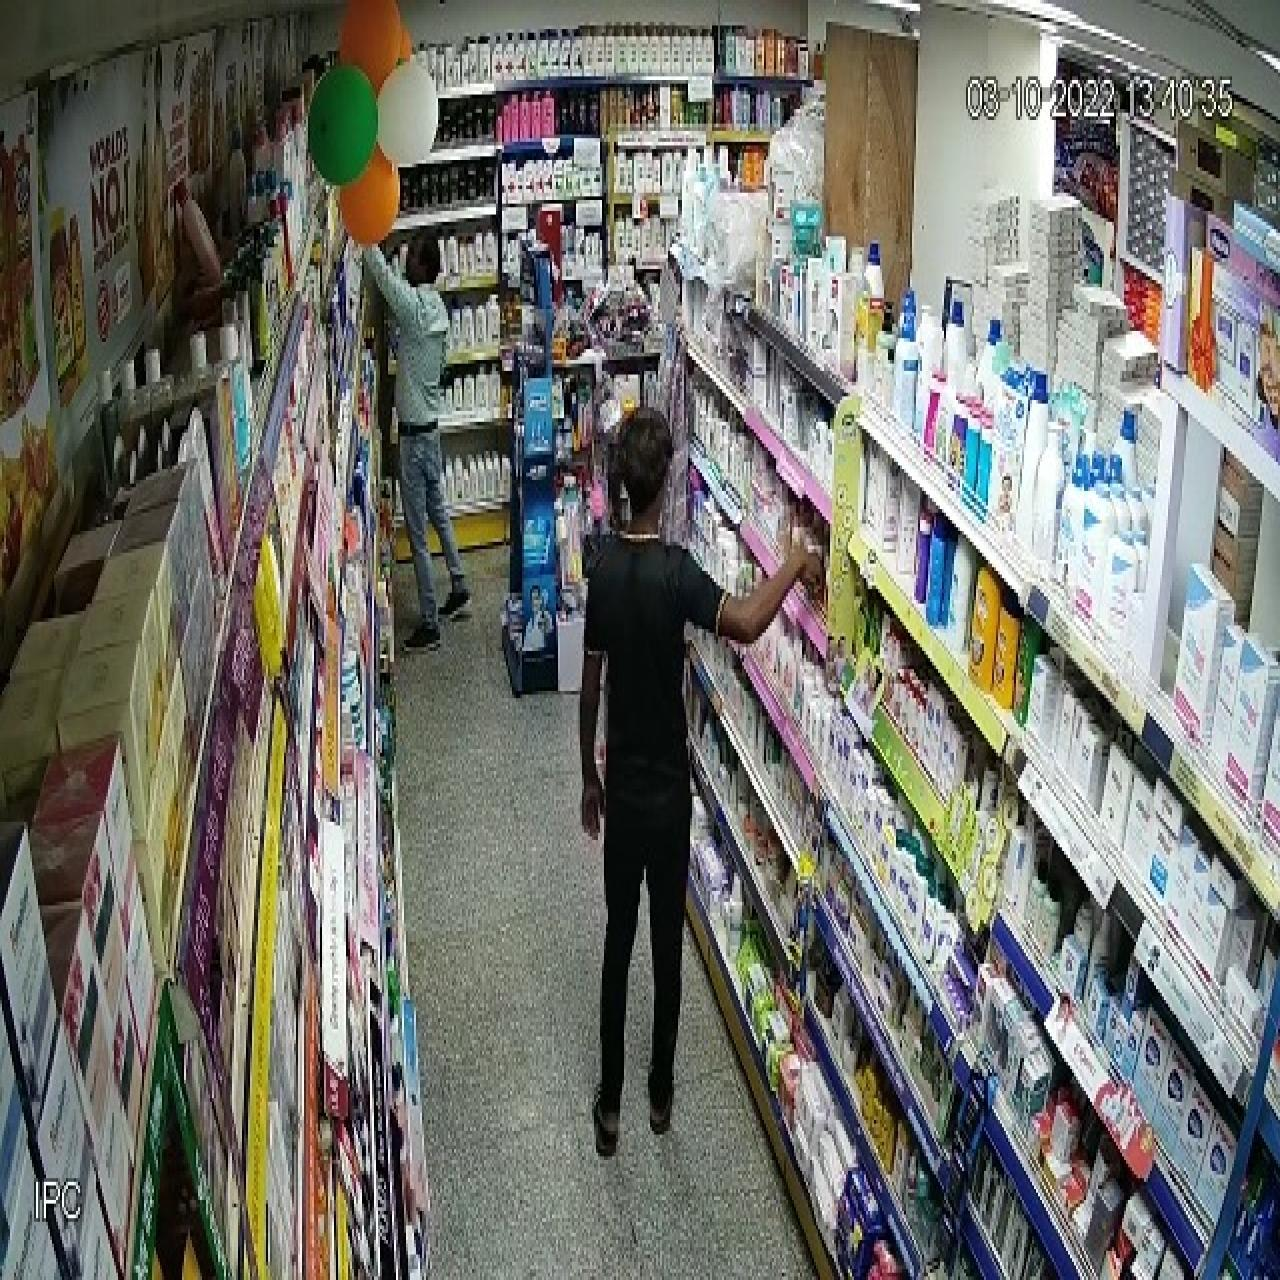normal: (509, 336, 769, 1160)
